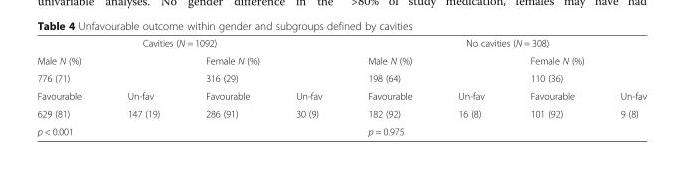table: (36, 36, 646, 136)
table column: (182, 36, 272, 136), (344, 36, 434, 136), (506, 36, 596, 136), (103, 36, 182, 136), (272, 36, 344, 136), (434, 36, 506, 136), (36, 36, 103, 136), (596, 36, 646, 136)
table row: (36, 51, 646, 69), (36, 86, 646, 104), (36, 104, 646, 122), (36, 69, 646, 86), (36, 36, 646, 51), (36, 122, 646, 136)
table spanning cell: (36, 36, 344, 51), (344, 36, 646, 51), (36, 122, 344, 136), (344, 122, 646, 136), (182, 51, 344, 69), (344, 51, 506, 69), (182, 69, 344, 86), (344, 69, 506, 86), (36, 51, 182, 69), (506, 51, 646, 69), (36, 69, 182, 86), (506, 69, 646, 86)
